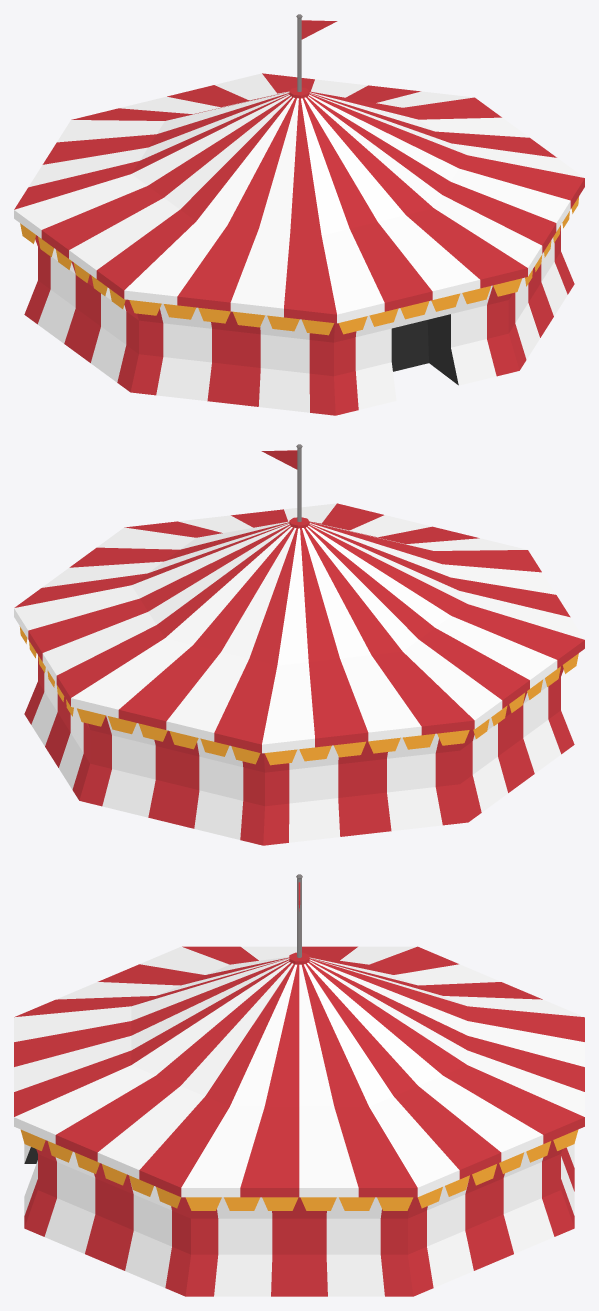
File: tent-circus-big.glb
3 views of the same model, one above another, from view 1: azimuth 30°, elevation 25°; view 2: azimuth 150°, elevation 25°; view 3: azimuth 270°, elevation 25° (orthographic). The views are drawn at different scales.
Parts seen in each view (by area): view 1: tent-circus-big; view 2: tent-circus-big; view 3: tent-circus-big.
Part boxes in pixels (box(x1,y1,x2,y2)): tent-circus-big: box(14, 14, 584, 415); tent-circus-big: box(14, 444, 584, 845); tent-circus-big: box(14, 874, 584, 1296).
Bounding box in the file's own units: 16.44 × 9.7 × 16.44.
Materials: 1 (1 with a texture image).
